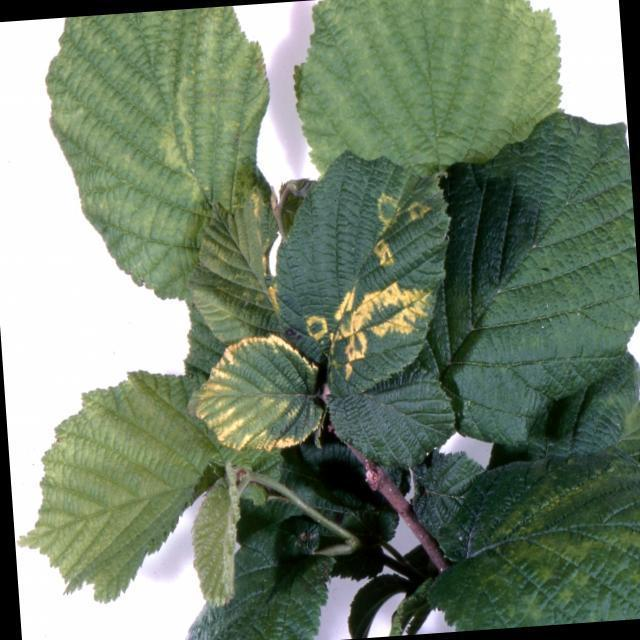Mosaic Virus: (294, 181, 452, 373), (465, 490, 640, 630), (188, 338, 339, 458)
